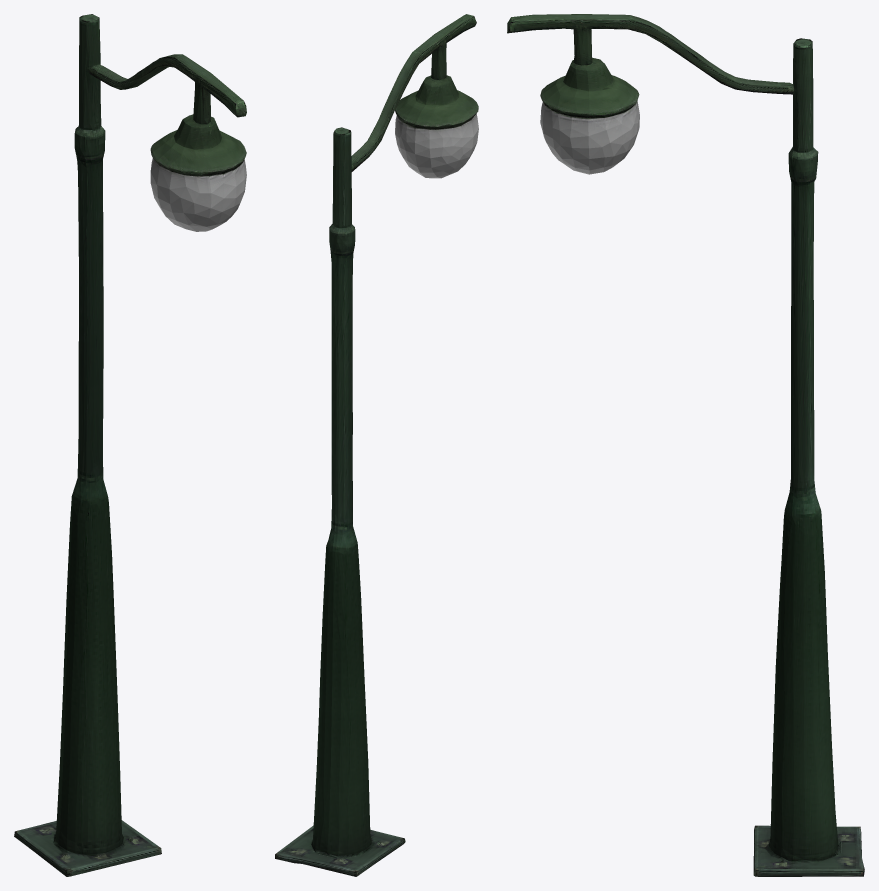
File: lamp.glb
The picture shows the model from 3 angles, left to right: view 1: azimuth 30°, elevation 25°; view 2: azimuth 150°, elevation 25°; view 3: azimuth 270°, elevation 25°; orthographic projection. The views are drawn at different scales.
Visible parts, largest first — view 1: world; view 2: world; view 3: world.
Boxes of the visible parts, <box> form: world: <box>14,14,246,876</box>; world: <box>275,14,478,876</box>; world: <box>507,14,864,876</box>.
Size of the model in its own units: 0.1164 by 1 by 0.3866.
1 material, 1 textured.
